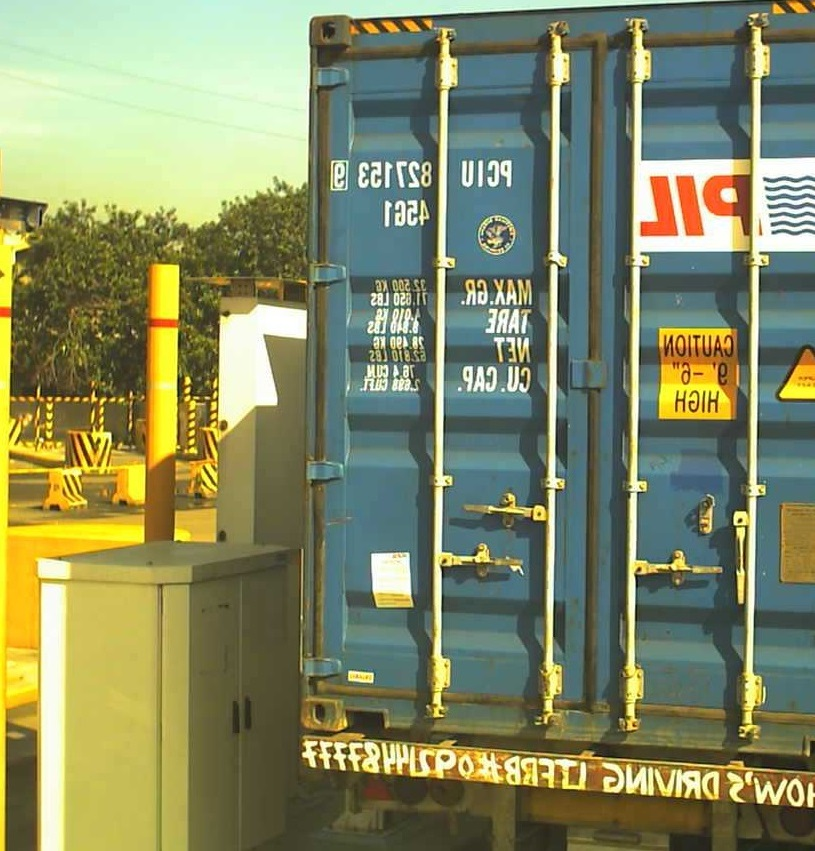container_door: (310, 15, 814, 777)
